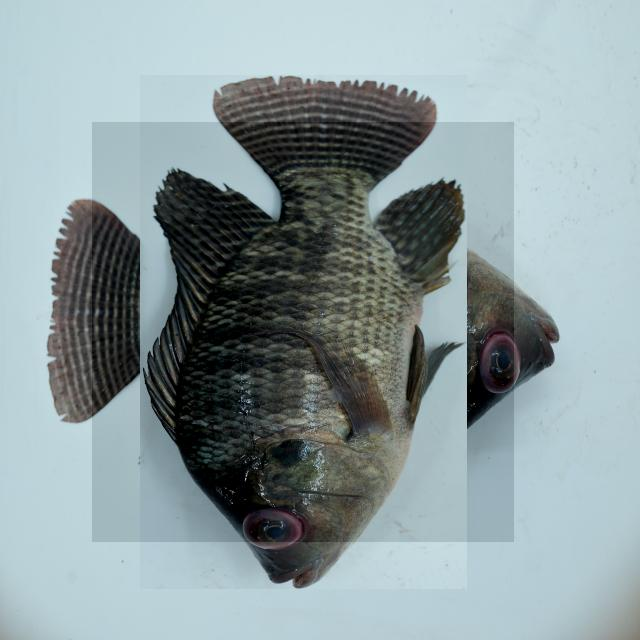streptococcus Disease: (92, 122, 514, 542)
